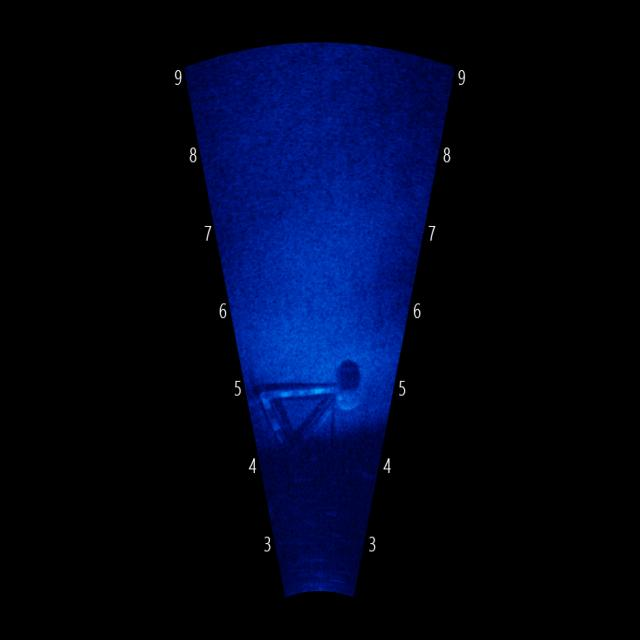triangle: (251, 360, 353, 468)
